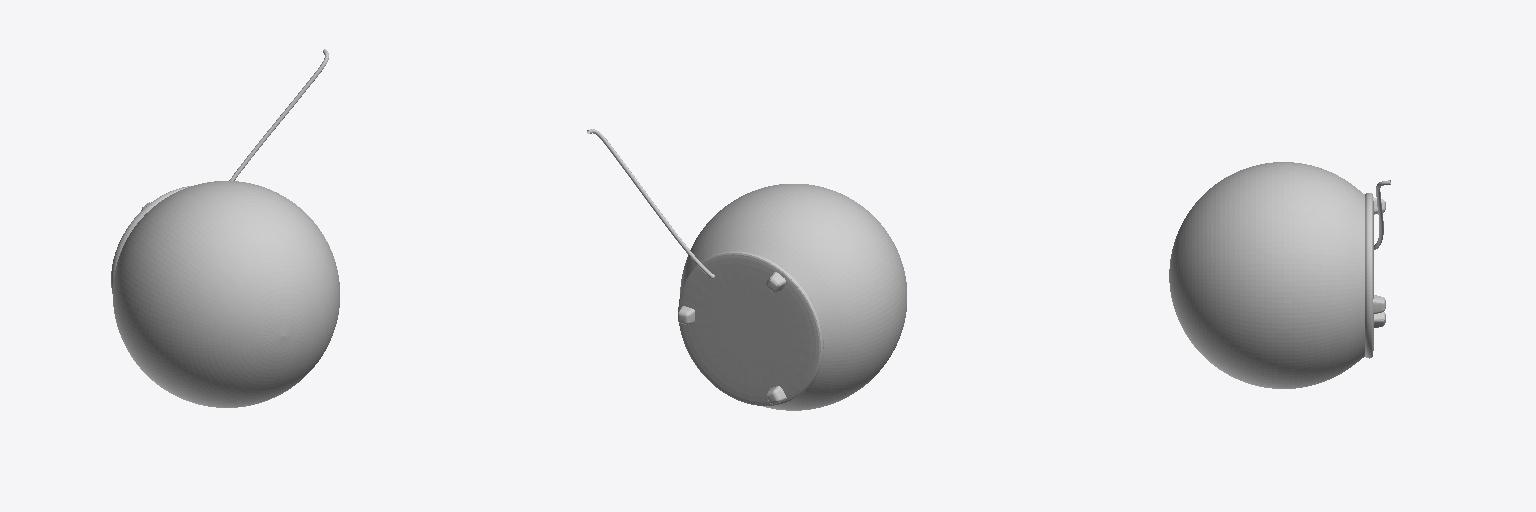
File: FADO Table Lamp L2.obj
3 views of the same model, side by side, from view 1: azimuth 30°, elevation 25°; view 2: azimuth 150°, elevation 25°; view 3: azimuth 270°, elevation 25° (orthographic).
Parts seen in each view (by area): view 1: bowl, base; view 2: bowl, base; view 3: bowl, base.
Part boxes in pixels (x1,y1,x2,y2): bowl: (113,181,339,407); base: (111,49,328,293); bowl: (680,184,906,410); base: (587,129,823,405); bowl: (1169,162,1364,388); base: (1365,180,1390,358).
Bounding box in the file's own units: 12.45 × 12.85 × 9.51.